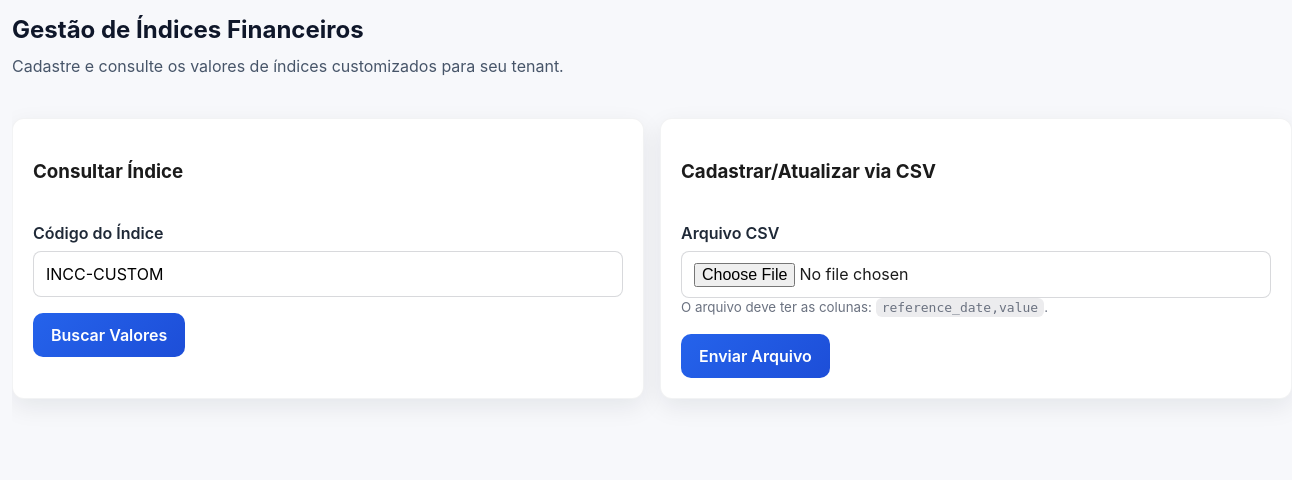
Test case: IndexManagementPage › deve exibir um erro ao tentar fazer upload sem um arquivo
Click the button "Enviar Arquivo" at (755, 356), box [681,334,830,378]
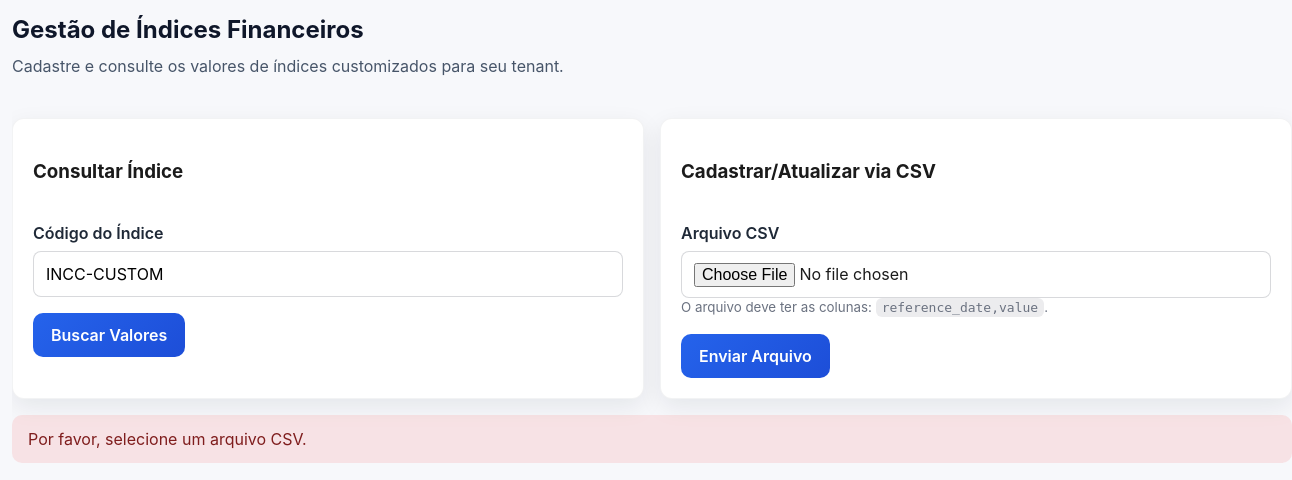
Check: the text "Por favor, selecione um arquivo CSV." is shown, box [12,414,1291,462]
